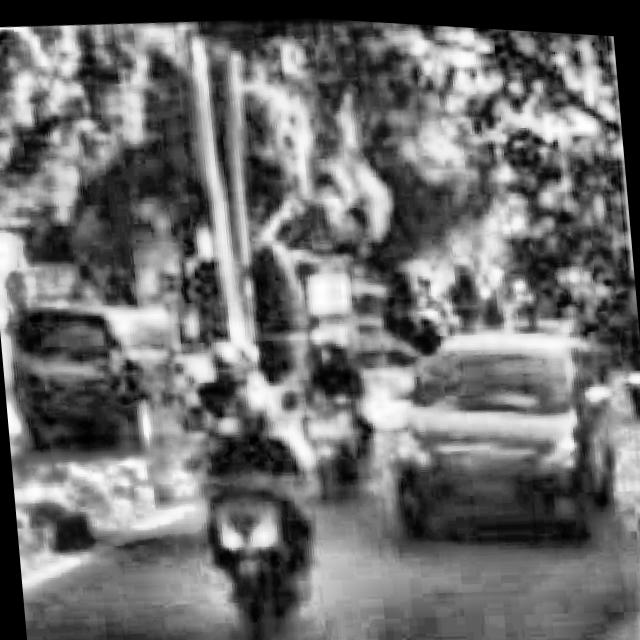motorcycle: (179, 436, 334, 632), (285, 347, 392, 510)
